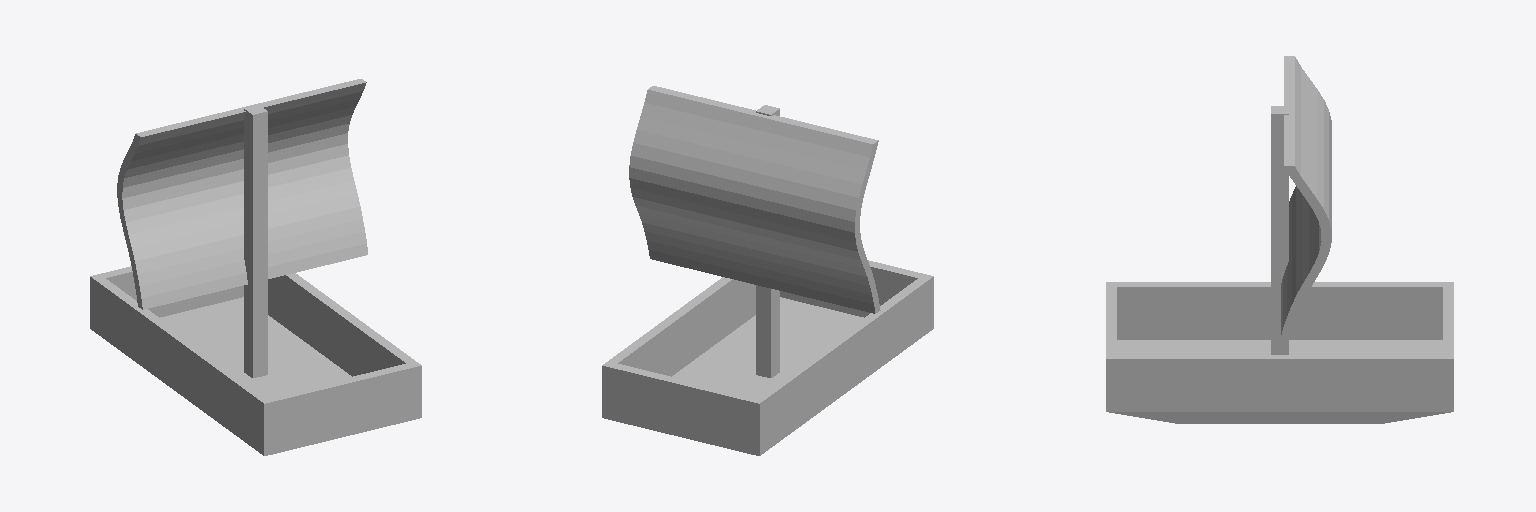
File: SimpleBoat.obj
The picture shows the model from 3 angles: view 1: azimuth 30°, elevation 25°; view 2: azimuth 150°, elevation 25°; view 3: azimuth 270°, elevation 25°; orthographic projection.
Parts seen in each view (by area): view 1: Cube.002_Cube.003, Cube.001, Cube_Cube.002; view 2: Cube.002_Cube.003, Cube.001, Cube_Cube.002; view 3: Cube.001, Cube.002_Cube.003, Cube_Cube.002.
Boxes of the visible parts, <box> form: Cube.002_Cube.003: <box>117,79,367,309</box>; Cube.001: <box>90,266,421,455</box>; Cube_Cube.002: <box>244,105,267,377</box>; Cube.002_Cube.003: <box>629,86,880,313</box>; Cube.001: <box>602,260,933,455</box>; Cube_Cube.002: <box>756,105,779,377</box>; Cube.001: <box>1106,282,1453,423</box>; Cube.002_Cube.003: <box>1281,56,1331,337</box>; Cube_Cube.002: <box>1271,106,1288,354</box>.
Bounding box in the file's own units: 5.52 × 6.84 × 7.39.